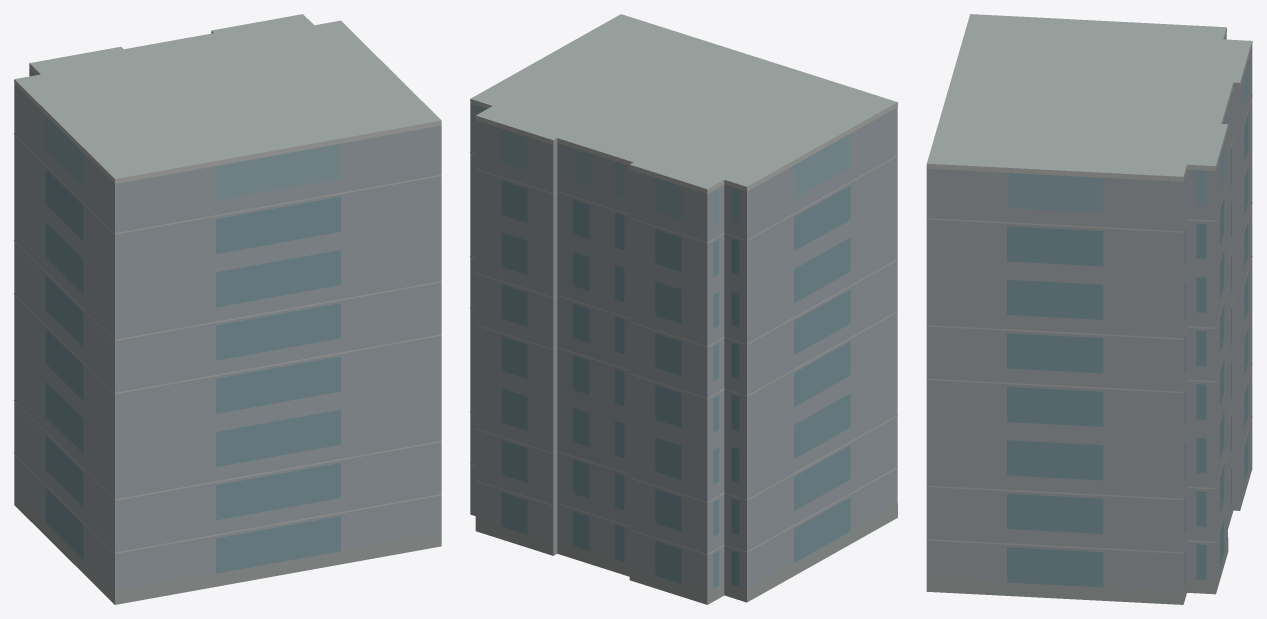
The model's file is survey-upis-32656505.glb.
3 views of the same model, side by side, from view 1: azimuth 30°, elevation 25°; view 2: azimuth 150°, elevation 25°; view 3: azimuth 270°, elevation 25° (orthographic). The views are drawn at different scales.
Parts seen in each view (by area): view 1: survey-upis-32656505.tmp; view 2: survey-upis-32656505.tmp; view 3: survey-upis-32656505.tmp.
Boxes of the visible parts, left/top/right/bottom form: survey-upis-32656505.tmp: left=14, top=14, right=441, bottom=604; survey-upis-32656505.tmp: left=470, top=14, right=897, bottom=604; survey-upis-32656505.tmp: left=926, top=14, right=1252, bottom=604.
Size of the model in its own units: 17.08 by 20.9 by 14.43.
